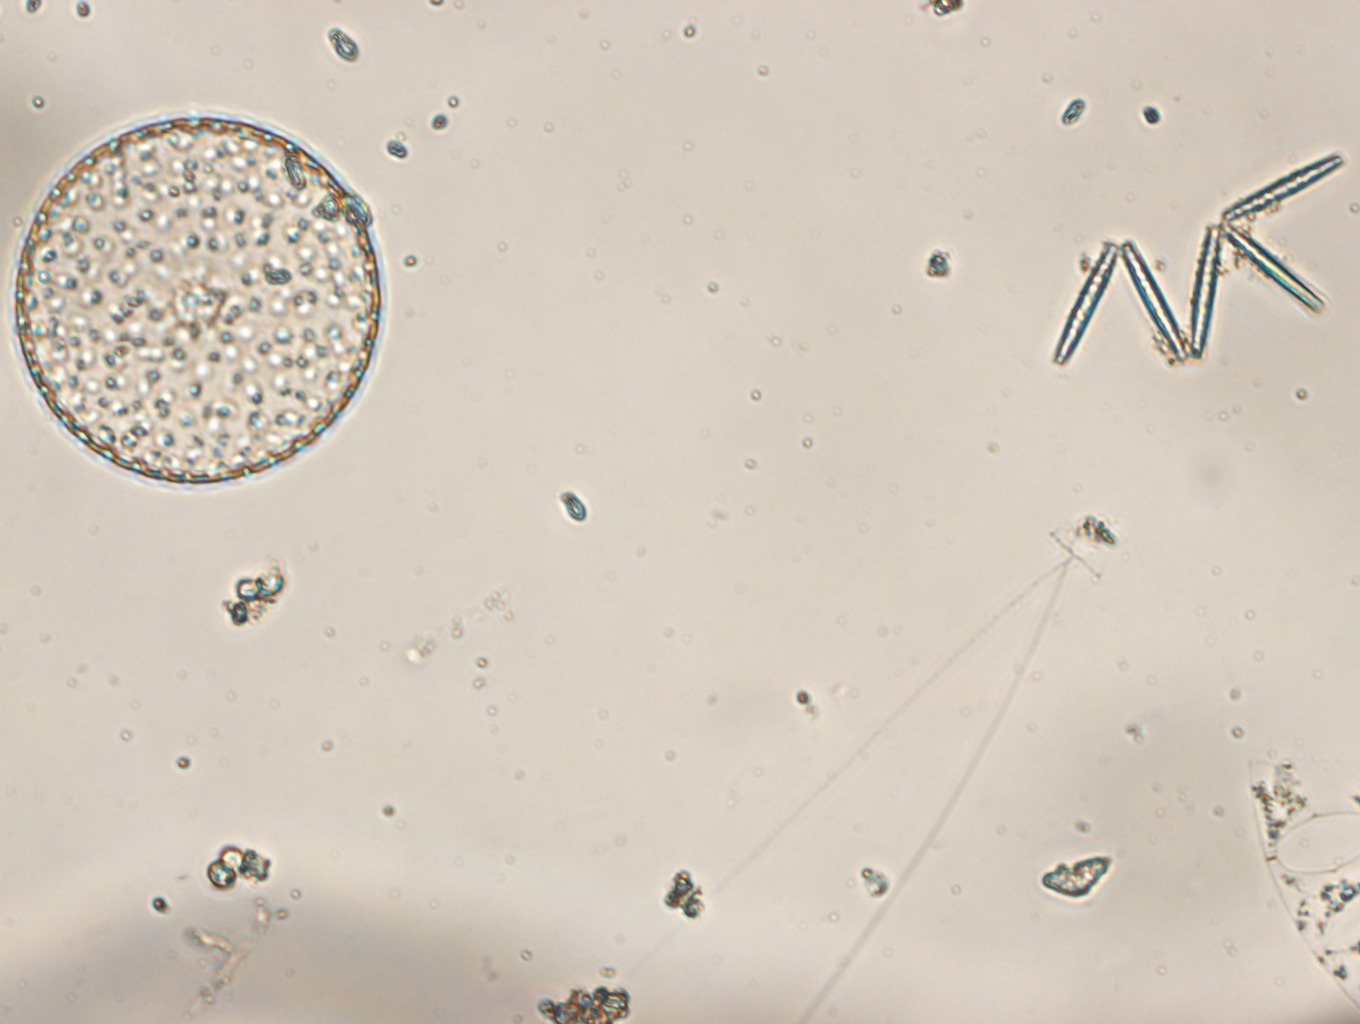coscinodiscus: (10, 108, 389, 494)
thalassionema nitzschioides: (1050, 151, 1344, 368)
